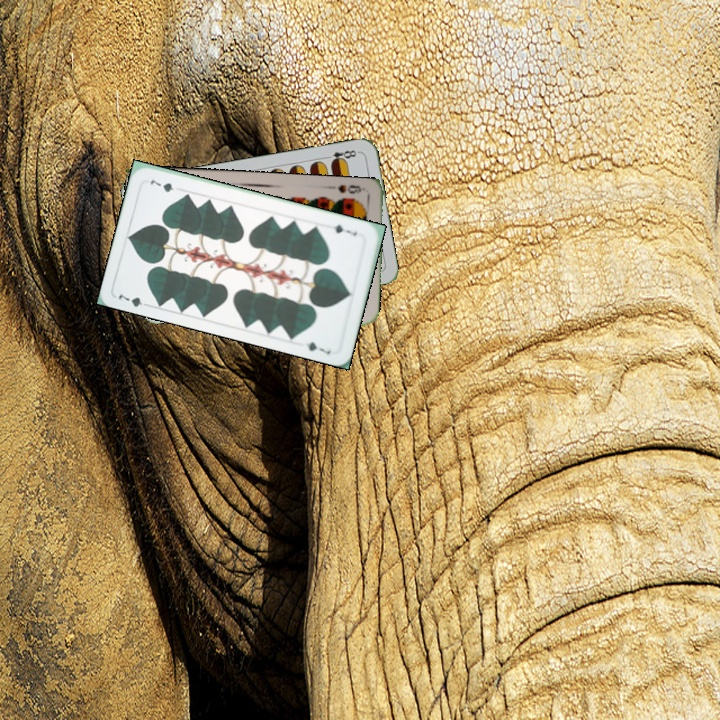E8: (321, 146, 362, 166)
G7: (114, 290, 153, 309), (330, 221, 360, 238)
S8: (334, 181, 367, 196)
